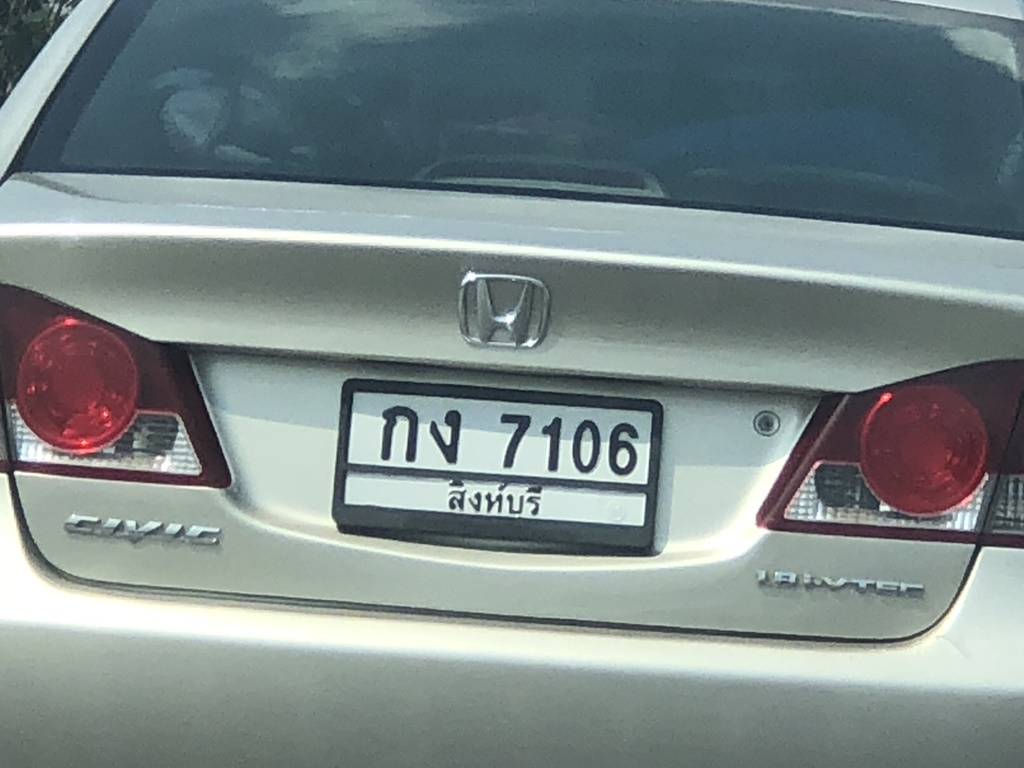zero: (563, 412, 606, 482)
